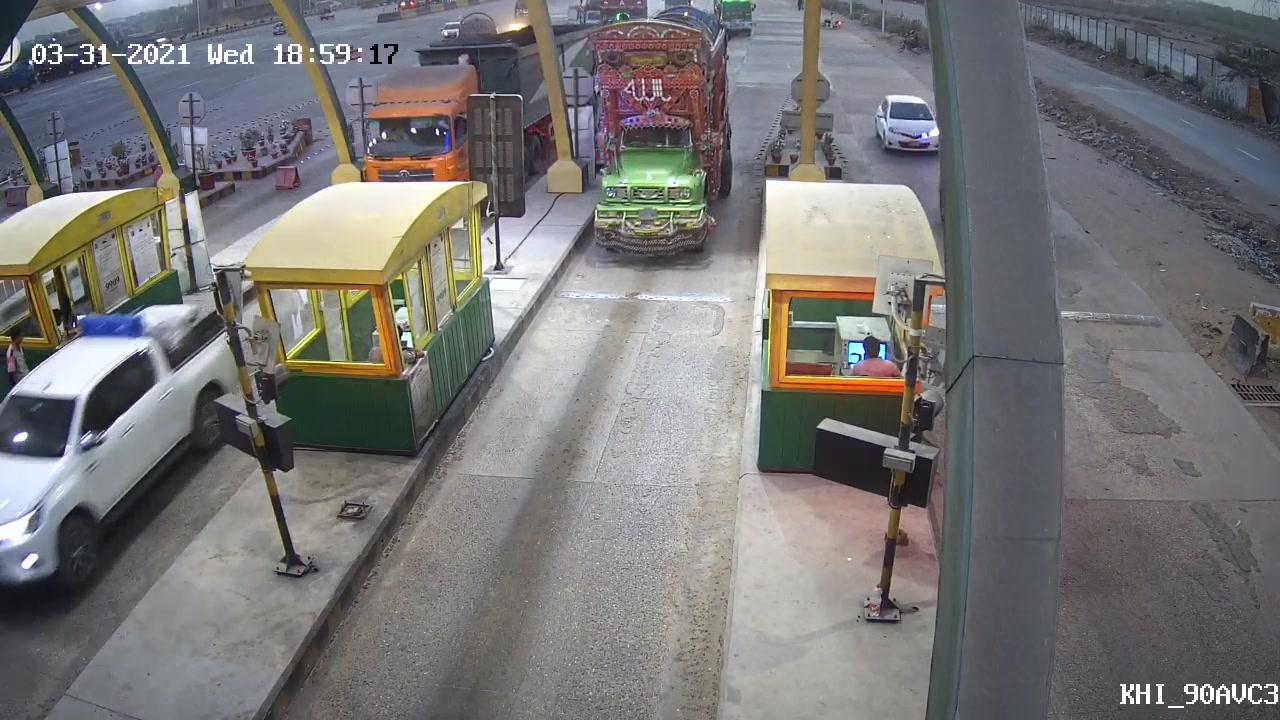F5: (576, 8, 736, 268)
